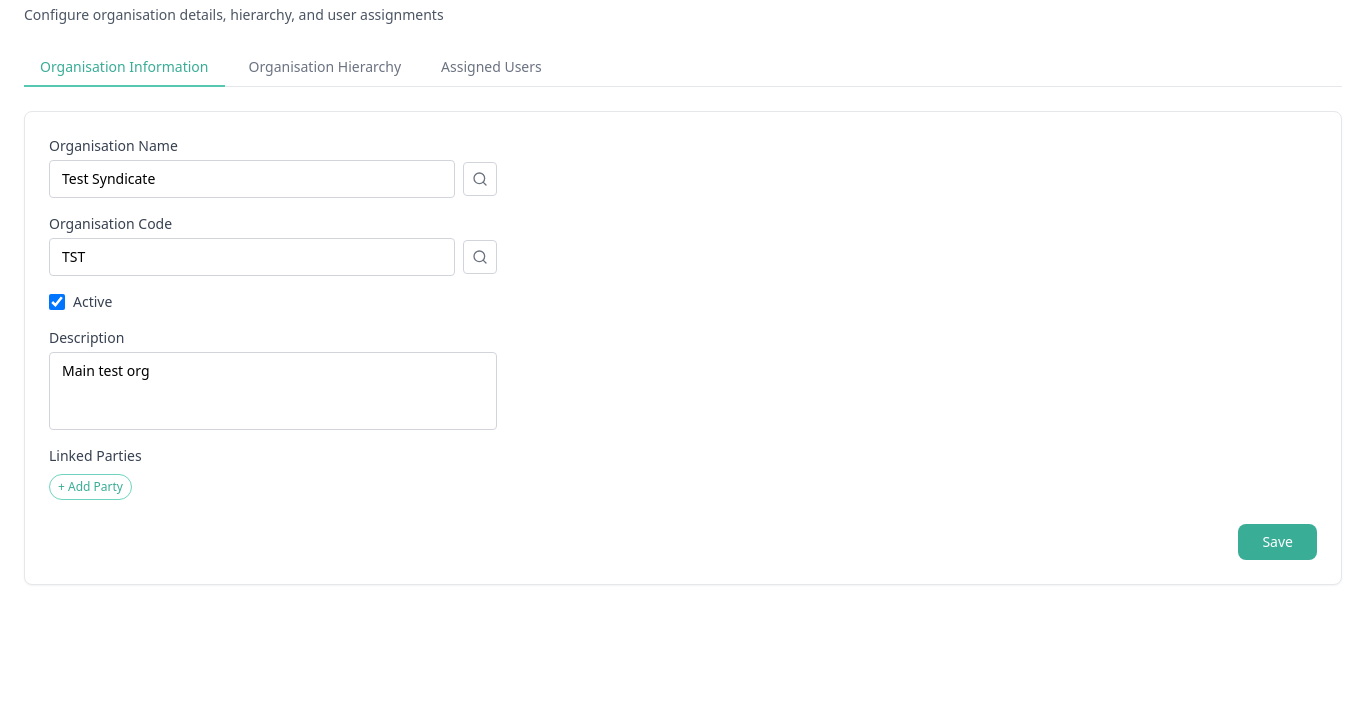
Test case: T-settings-org-R08: Hierarchy tree shows no-structure message when empty › shows "No hierarchy structure defined" when no links exist
Expected: the field showing "Test Syndicate" below "Organisation Name" is shown, [49, 160, 455, 198]
What coordinates should you click on to do the following:
click the tab "Organisation Hierarchy"
I would click on:
 (325, 68)
Its box is [232, 49, 417, 87].
(page scrolled)
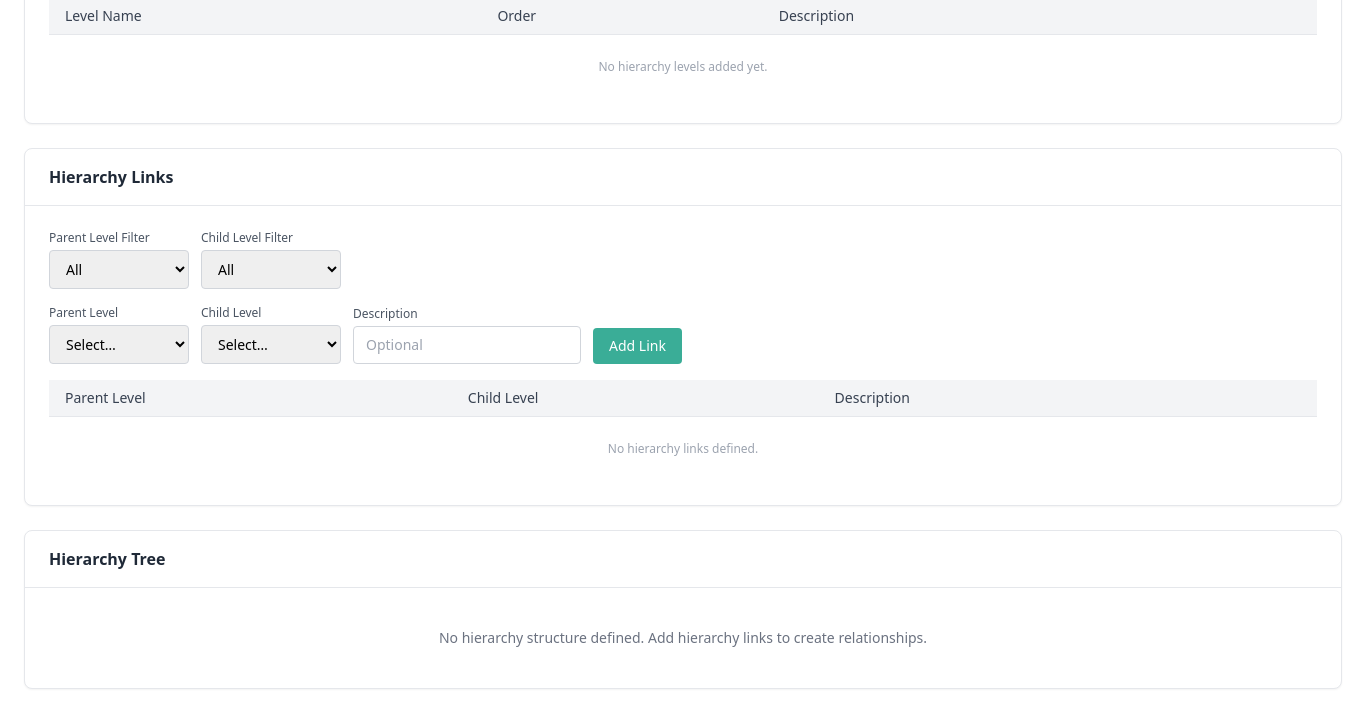
Expected: the text "No hierarchy structure defined" is shown, [439, 628, 927, 647]
